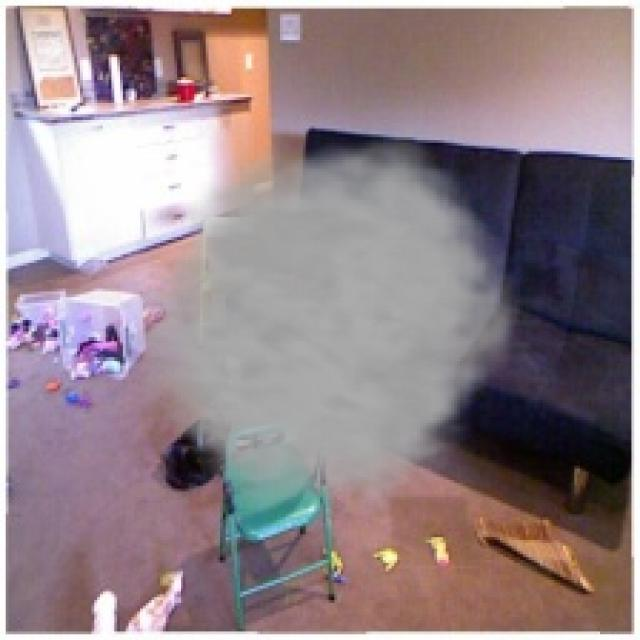smoke: (117, 120, 532, 514)
